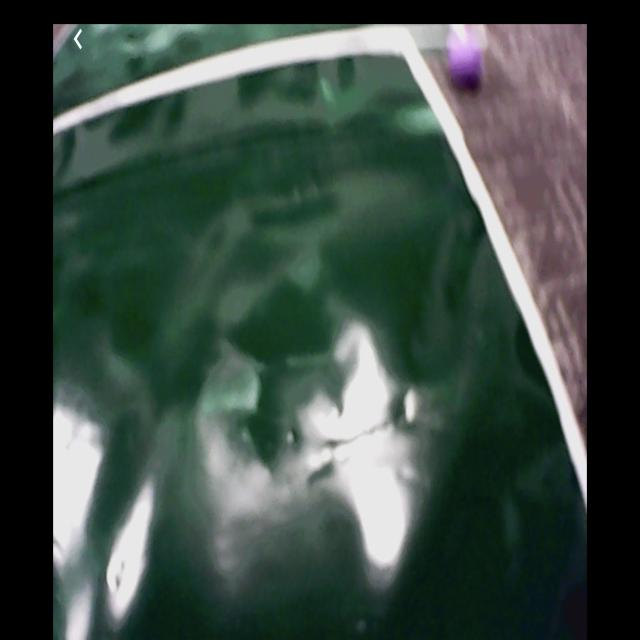ball: (446, 38, 489, 95)
